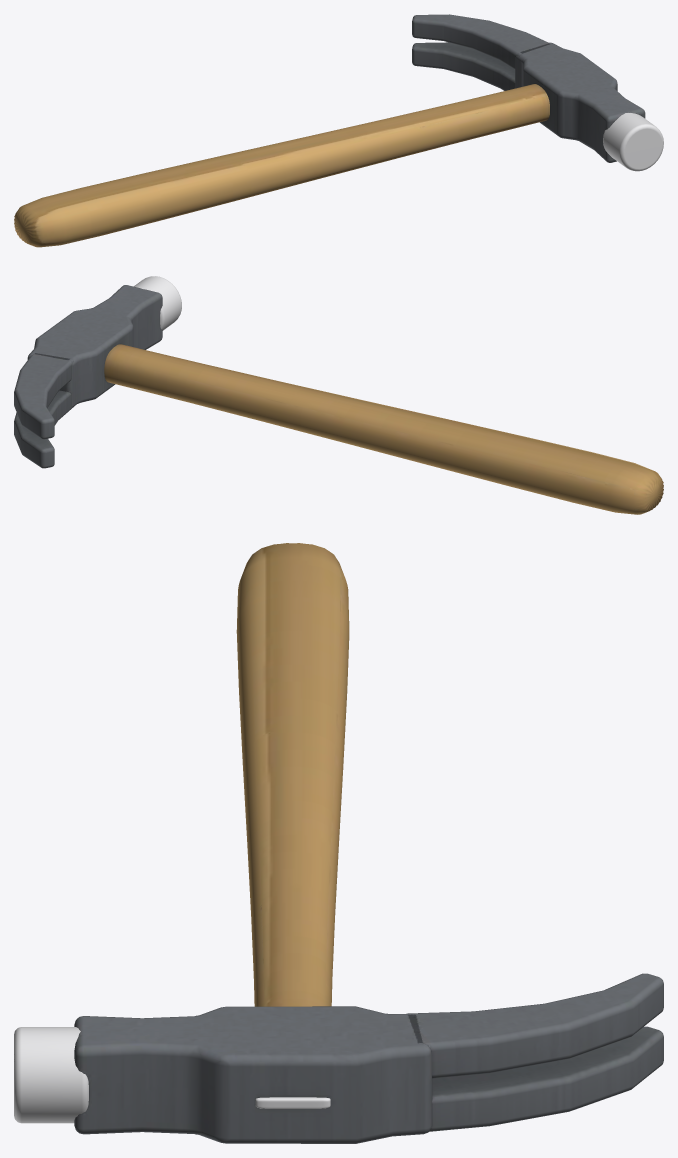
Rendered from claw-wood.glb.
The picture shows the model from 3 angles, top to bottom: view 1: azimuth 30°, elevation 25°; view 2: azimuth 150°, elevation 25°; view 3: azimuth 270°, elevation 25°; orthographic projection. The views are drawn at different scales.
Visible parts, largest first — view 1: wood_x, steel_forged, steel_polished; view 2: wood_x, steel_forged, steel_polished; view 3: steel_forged, wood_x, steel_polished.
Part boxes in pixels (x1,y1,x2,y2): wood_x: [14, 84, 549, 247]; steel_forged: [412, 14, 645, 162]; steel_polished: [603, 113, 663, 171]; wood_x: [104, 344, 663, 514]; steel_forged: [14, 285, 162, 468]; steel_polished: [134, 276, 181, 330]; steel_forged: [74, 973, 663, 1143]; wood_x: [236, 543, 349, 1006]; steel_polished: [14, 1027, 330, 1123].
Size of the model in its own units: 0.3366 by 0.026 by 0.1723.
Materials: 3 (2 with a texture image).
